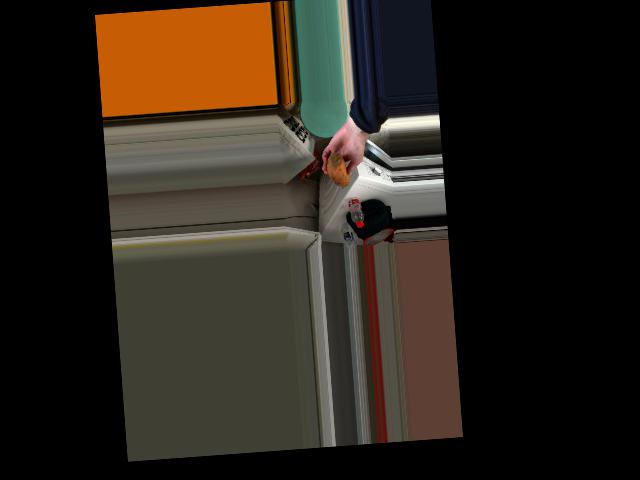sweet_potato: (327, 147, 347, 188)
